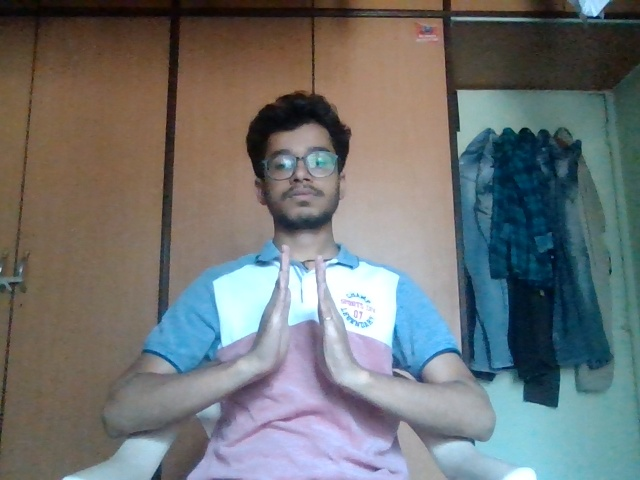morning: (255, 234, 352, 381)
